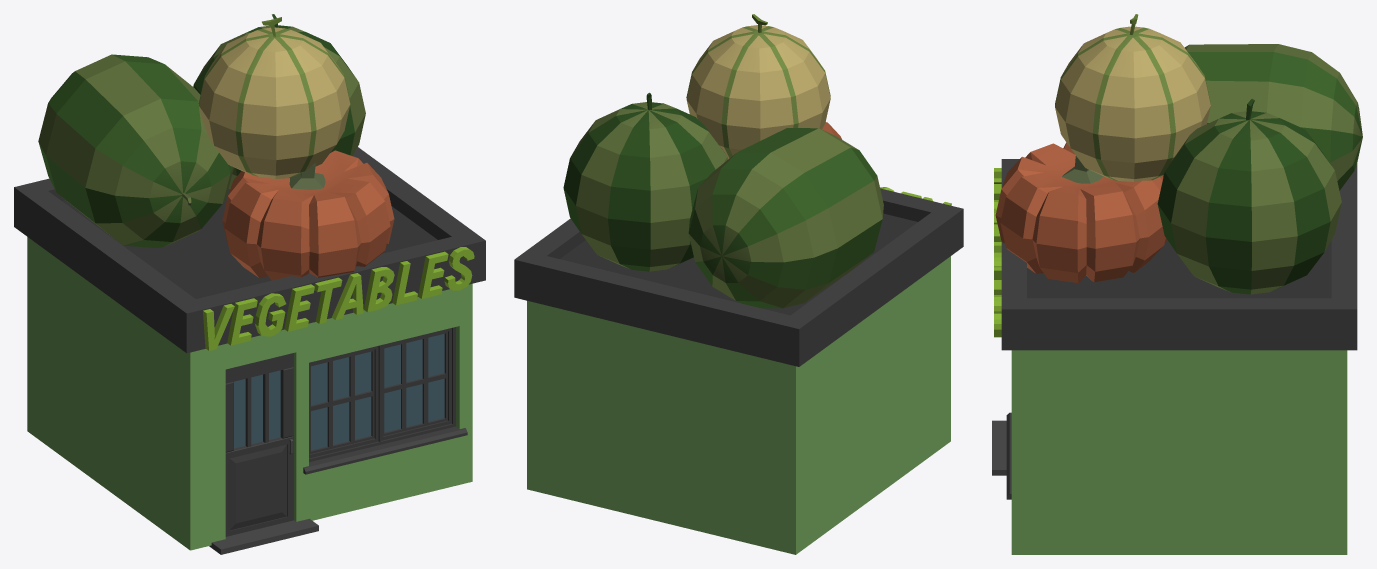
The picture shows the model from 3 angles, left to right: view 1: azimuth 30°, elevation 25°; view 2: azimuth 150°, elevation 25°; view 3: azimuth 270°, elevation 25°; orthographic projection. The views are drawn at different scales.
Parts seen in each view (by area): view 1: vegetables.001; view 2: vegetables.001; view 3: vegetables.001.
Part boxes in pixels (x1,y1,x2,y2): vegetables.001: (14, 14, 485, 554); vegetables.001: (514, 14, 963, 554); vegetables.001: (992, 14, 1362, 554).
Bounding box in the file's own units: 4.35 × 6.18 × 4.42.
1 material, 1 textured.
